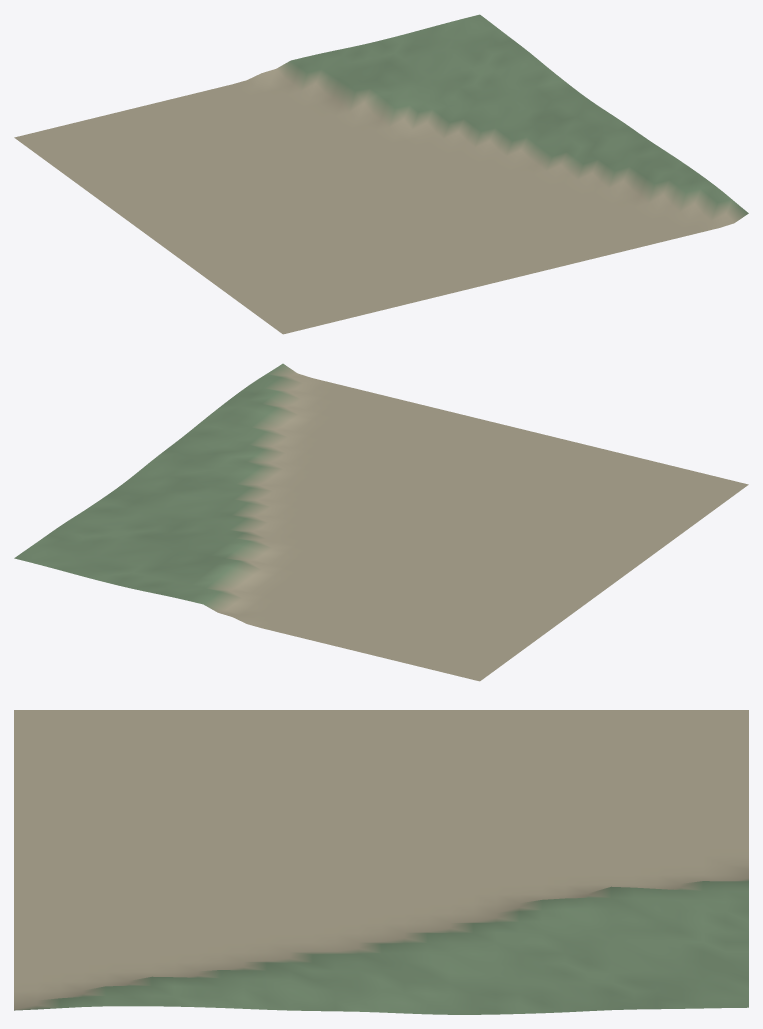
The picture shows the model from 3 angles, top to bottom: view 1: azimuth 30°, elevation 25°; view 2: azimuth 150°, elevation 25°; view 3: azimuth 270°, elevation 25°; orthographic projection. The views are drawn at different scales.
Parts seen in each view (by area): view 1: Terrain-col; view 2: Terrain-col; view 3: Terrain-col.
Boxes of the visible parts, bbox=[...] form: Terrain-col: bbox=[14, 14, 748, 334]; Terrain-col: bbox=[14, 363, 748, 681]; Terrain-col: bbox=[14, 710, 748, 1014].
Size of the model in its own units: 256 by 6.68 by 256.
